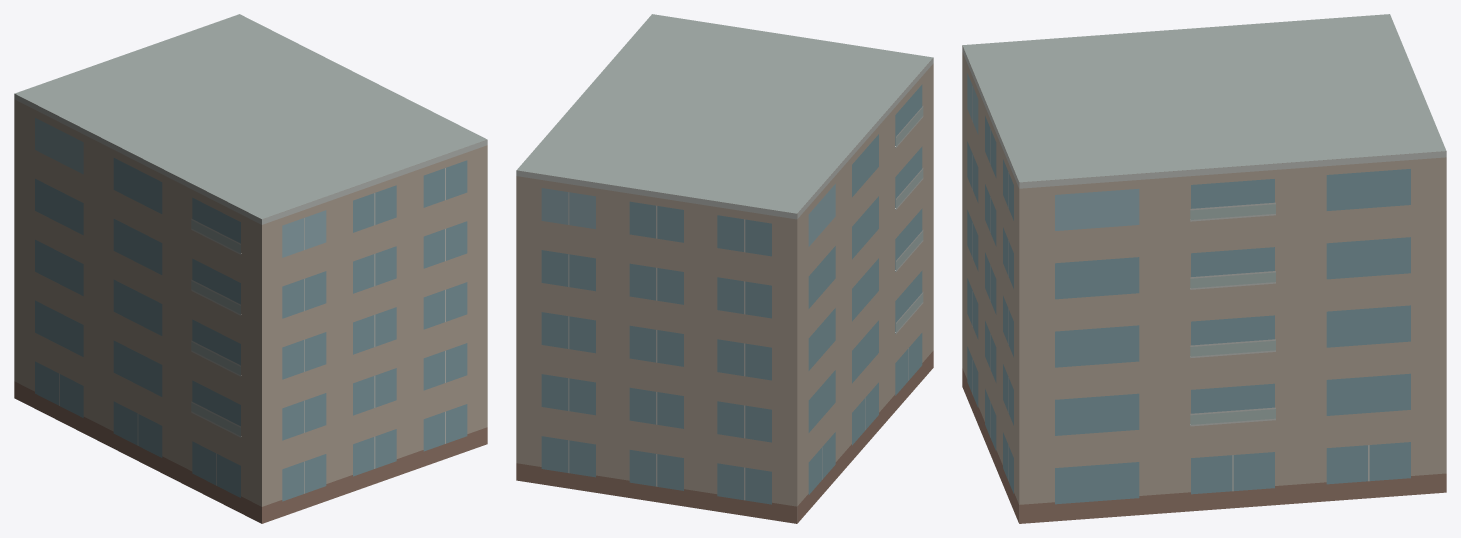
The model's file is survey-upis-32656982.glb.
3 views of the same model, side by side, from view 1: azimuth 30°, elevation 25°; view 2: azimuth 150°, elevation 25°; view 3: azimuth 270°, elevation 25° (orthographic). The views are drawn at different scales.
Parts seen in each view (by area): view 1: survey-upis-32656982.tmp; view 2: survey-upis-32656982.tmp; view 3: survey-upis-32656982.tmp.
Boxes of the visible parts, x1=… form: survey-upis-32656982.tmp: x1=14, y1=14, x2=487, y2=523; survey-upis-32656982.tmp: x1=516, y1=14, x2=933, y2=523; survey-upis-32656982.tmp: x1=962, y1=14, x2=1446, y2=523.
Bounding box in the file's own units: 13.92 × 13.15 × 16.91.
